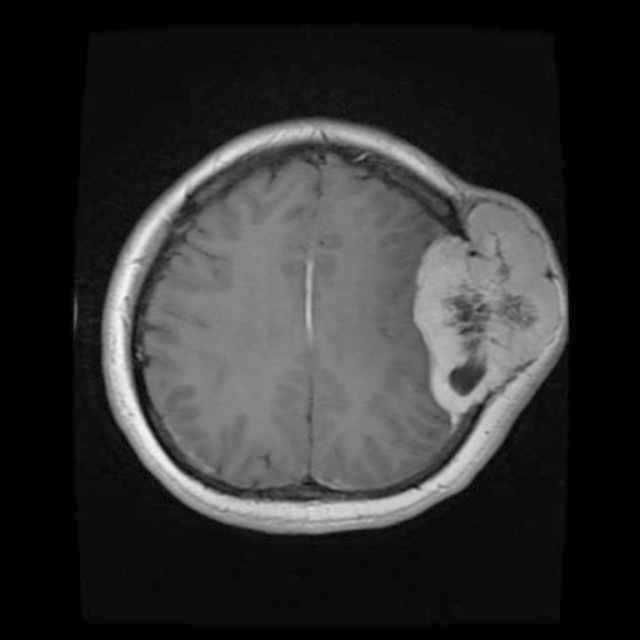meningioma tumor: (407, 188, 568, 418)
